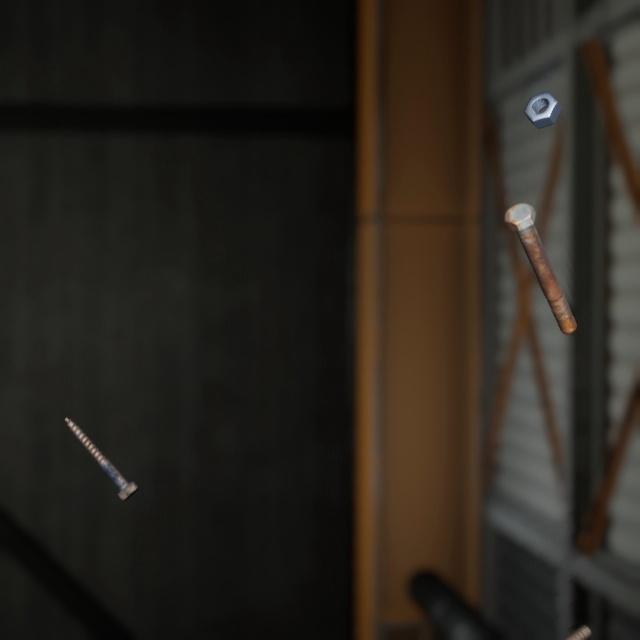bolt: (500, 181, 581, 323), (60, 392, 143, 485), (524, 597, 596, 640)
nut: (519, 75, 566, 120)
